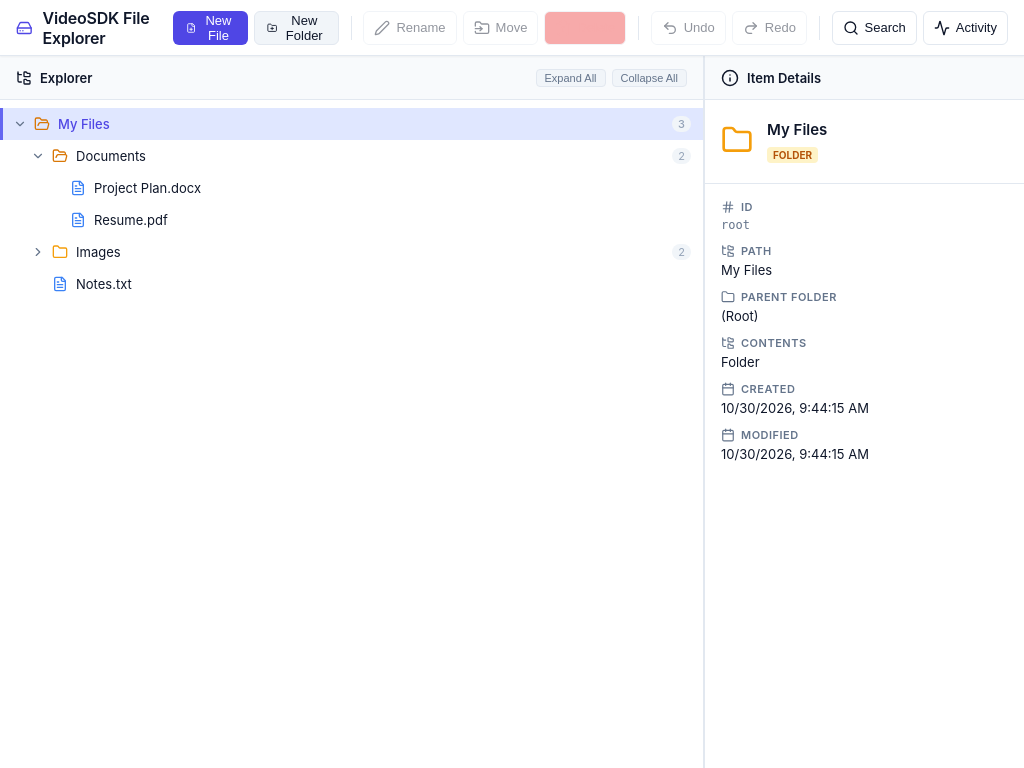
Test: React Component Tests › Full Application Integration Tests (App.jsx) › updates details panel when selecting an item
Click the text "Notes.txt" at x=104, y=284, box [76,276,132,292]
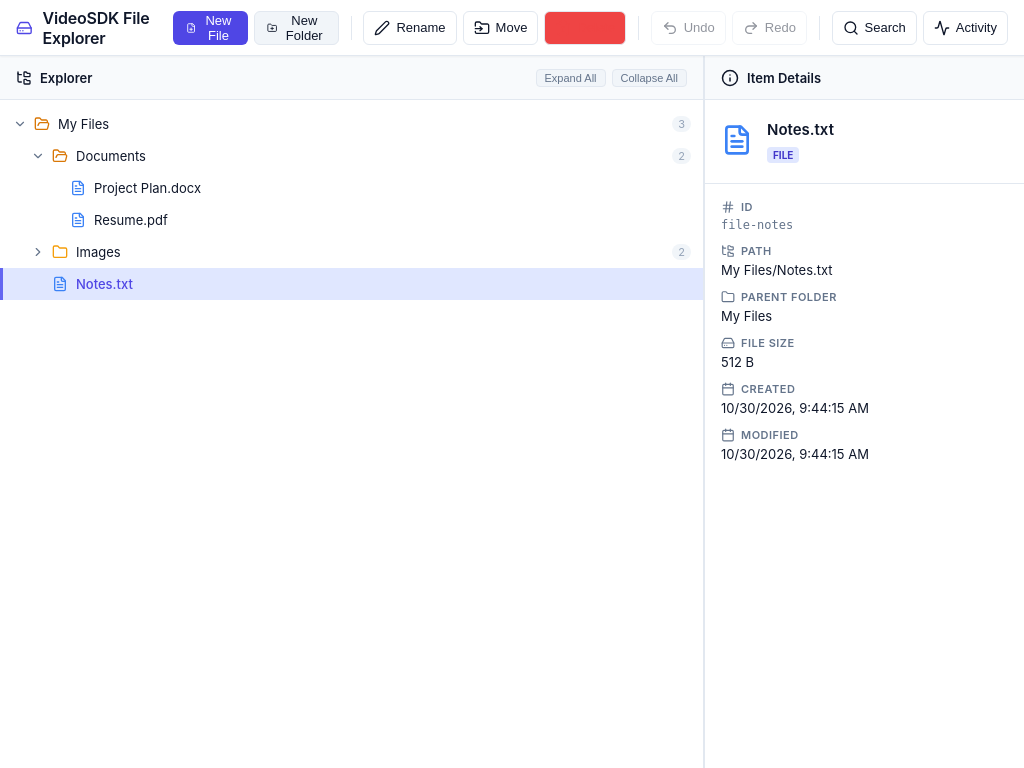
Expected: the heading "Notes.txt" is shown, [767,120,834,139]
Expected: the text "FILE" is shown, [767,147,799,163]
Expected: the text "file-notes" is shown, [721,218,793,232]
